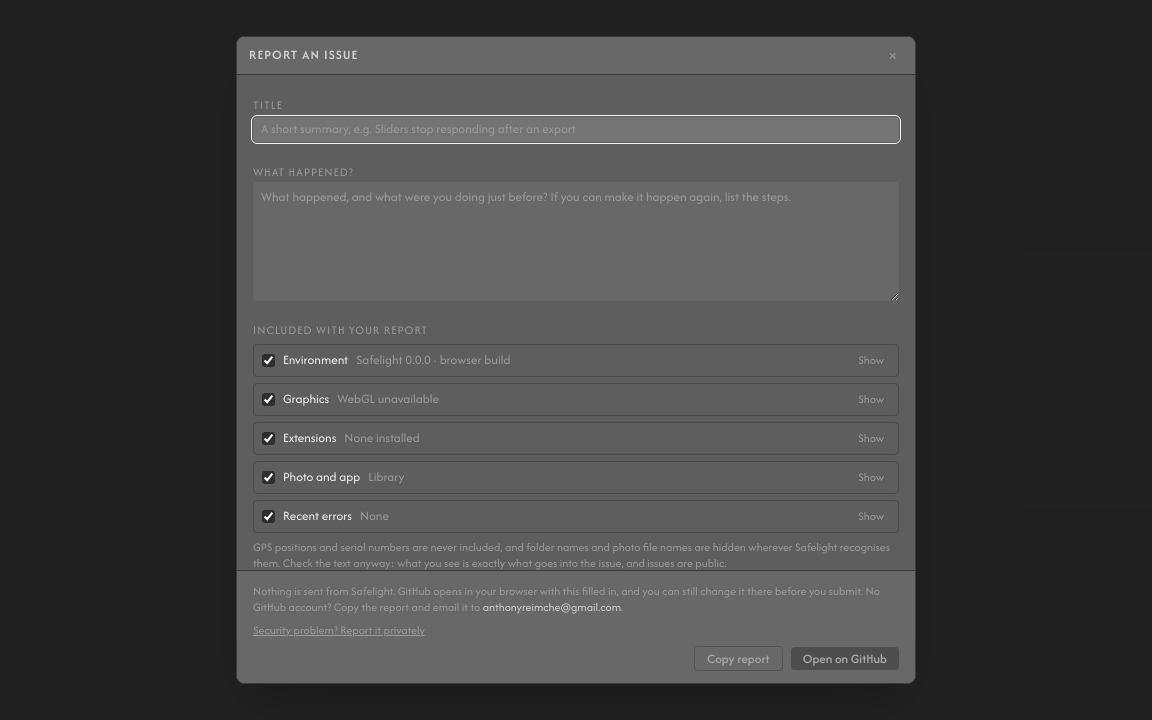
ReportIssueDialog › waits for a title and a description before opening GitHub
Expected: the checkbox named "Include Environment" is shown, left=262, top=354, right=275, bottom=367
Expected: the button "Open on GitHub" is disabled, left=791, top=647, right=899, bottom=670
In the field labelled "Title": x=576, y=129 left=253, top=117, right=899, bottom=142, type "Sliders freeze"
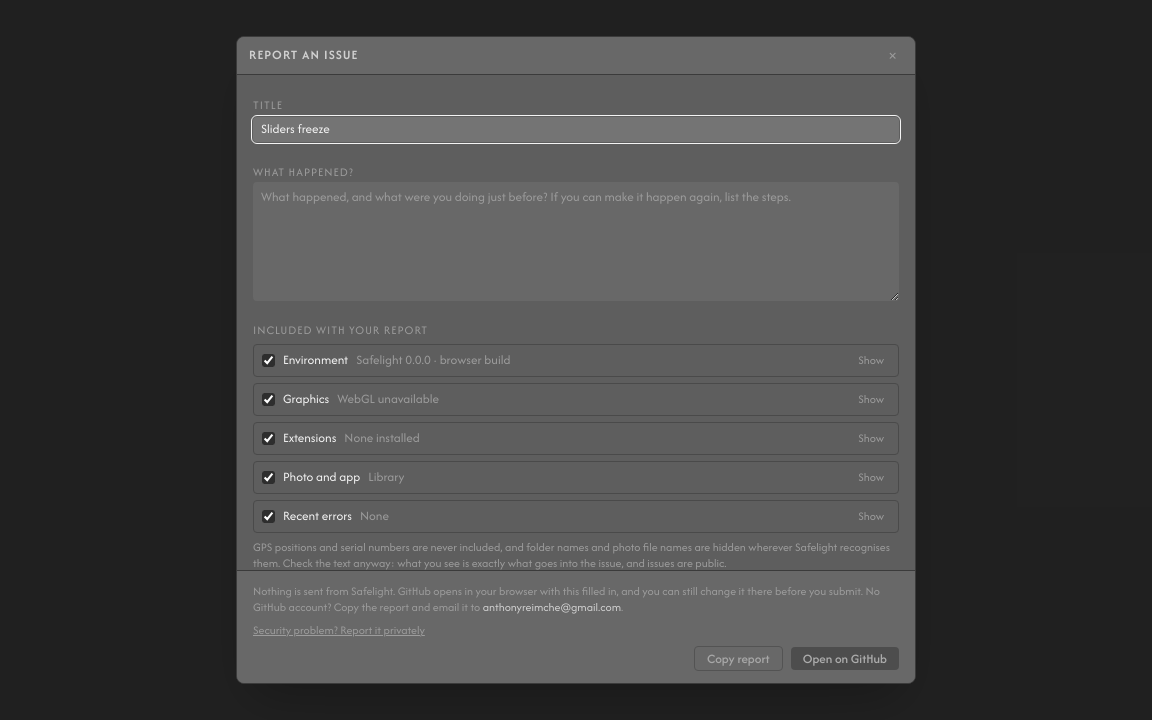
Expected: the button "Open on GitHub" is disabled, left=791, top=647, right=899, bottom=670
In the text box labelled "What happened?": x=576, y=241 left=253, top=182, right=899, bottom=301, type "They stop."
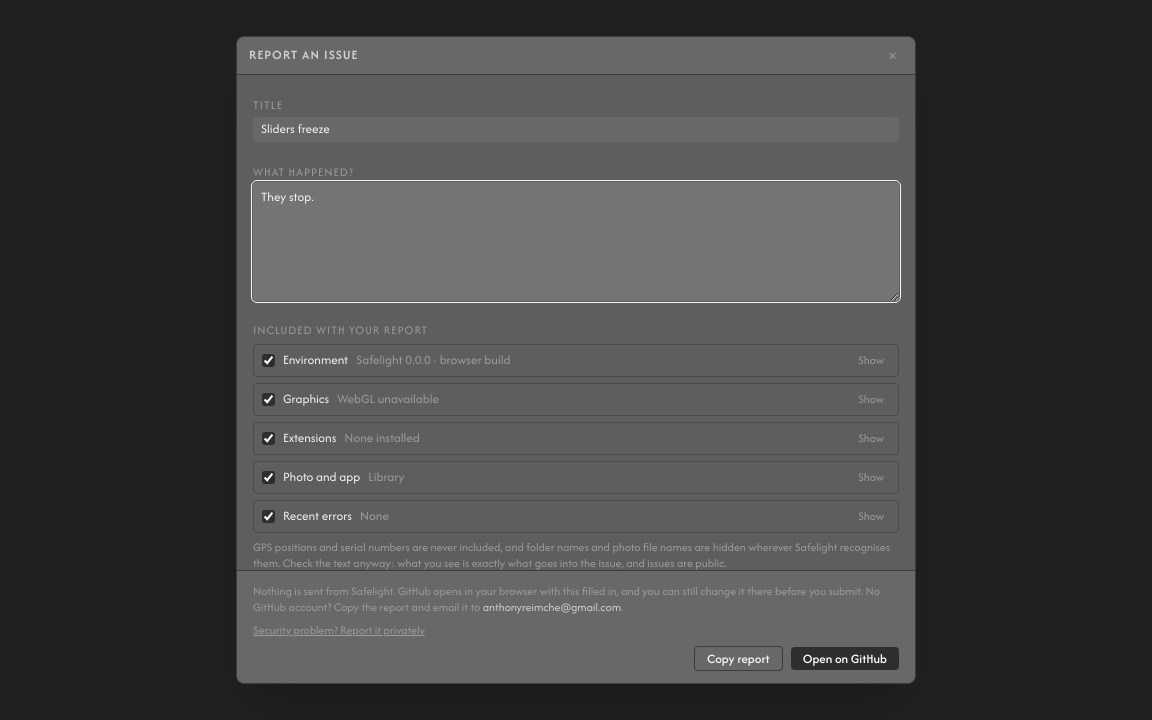
Expected: the button "Open on GitHub" is enabled, left=791, top=647, right=899, bottom=670
